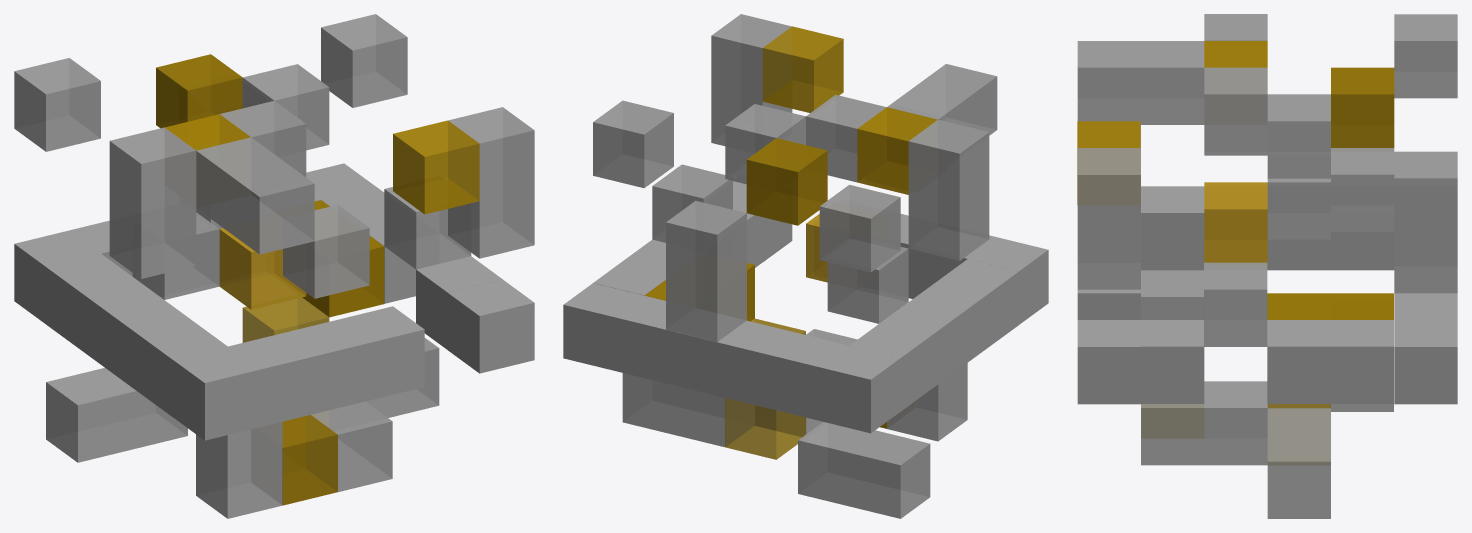
File: LAB-Basico-2.fbx
3 views of the same model, side by side, from view 1: azimuth 30°, elevation 25°; view 2: azimuth 150°, elevation 25°; view 3: azimuth 270°, elevation 25° (orthographic). The views are drawn at different scales.
Parts seen in each view (by area): view 1: pCube59, pCube61, pCube76, pCube79, pCube80, pCube66, pCube78, pCube86, pCube81, pCube87, pCube71, pCube60 (+15 smaller); view 2: pCube60, pCube61, pCube76, pCube47, pCube66, pCube79, pCube74, pCube87, pCube70, pCube71, pCube81, pCube59 (+14 smaller); view 3: pCube65, pCube80, pCube61, pCube69, pCube47, pCube79, pCube60, pCube74, pCube68, pCube72, pCube87, pCube75 (+14 smaller).
Part boxes in pixels (x1=…): pCube59: x1=173, y1=306, x2=424, y2=440; pCube61: x1=46, y1=253, x2=227, y2=416; pCube76: x1=109, y1=127, x2=196, y2=278; pCube79: x1=448, y1=107, x2=534, y2=258; pCube80: x1=196, y1=137, x2=314, y2=254; pCube66: x1=46, y1=368, x2=187, y2=462; pCube78: x1=196, y1=421, x2=282, y2=518; pCube86: x1=448, y1=279, x2=534, y2=373; pCube81: x1=393, y1=120, x2=479, y2=214; pCube87: x1=14, y1=58, x2=100, y2=151; pCube71: x1=321, y1=14, x2=407, y2=107; pCube60: x1=14, y1=163, x2=375, y2=323; pCube60: x1=563, y1=283, x2=900, y2=433; pCube61: x1=850, y1=259, x2=1018, y2=411; pCube76: x1=908, y1=119, x2=989, y2=260; pCube47: x1=666, y1=200, x2=746, y2=341; pCube66: x1=798, y1=422, x2=930, y2=518; pCube79: x1=711, y1=14, x2=792, y2=145; pCube74: x1=622, y1=373, x2=754, y2=447; pCube87: x1=819, y1=184, x2=900, y2=272; pCube70: x1=746, y1=138, x2=827, y2=225; pCube71: x1=593, y1=100, x2=673, y2=188; pCube81: x1=762, y1=26, x2=843, y2=112; pCube59: x1=900, y1=214, x2=1048, y2=324; pCube65: x1=1267, y1=320, x2=1393, y2=403; pCube80: x1=1077, y1=41, x2=1204, y2=124; pCube61: x1=1141, y1=186, x2=1394, y2=270; pCube69: x1=1141, y1=381, x2=1267, y2=465; pCube47: x1=1394, y1=151, x2=1457, y2=293; pCube79: x1=1077, y1=148, x2=1140, y2=289; pCube60: x1=1394, y1=293, x2=1457, y2=404; pCube74: x1=1267, y1=408, x2=1330, y2=518; pCube68: x1=1204, y1=67, x2=1267, y2=151; pCube72: x1=1267, y1=94, x2=1330, y2=178; pCube87: x1=1394, y1=14, x2=1457, y2=98; pCube75: x1=1204, y1=262, x2=1267, y2=346.
Bounding box in the file's own units: 6 × 6 × 6.
